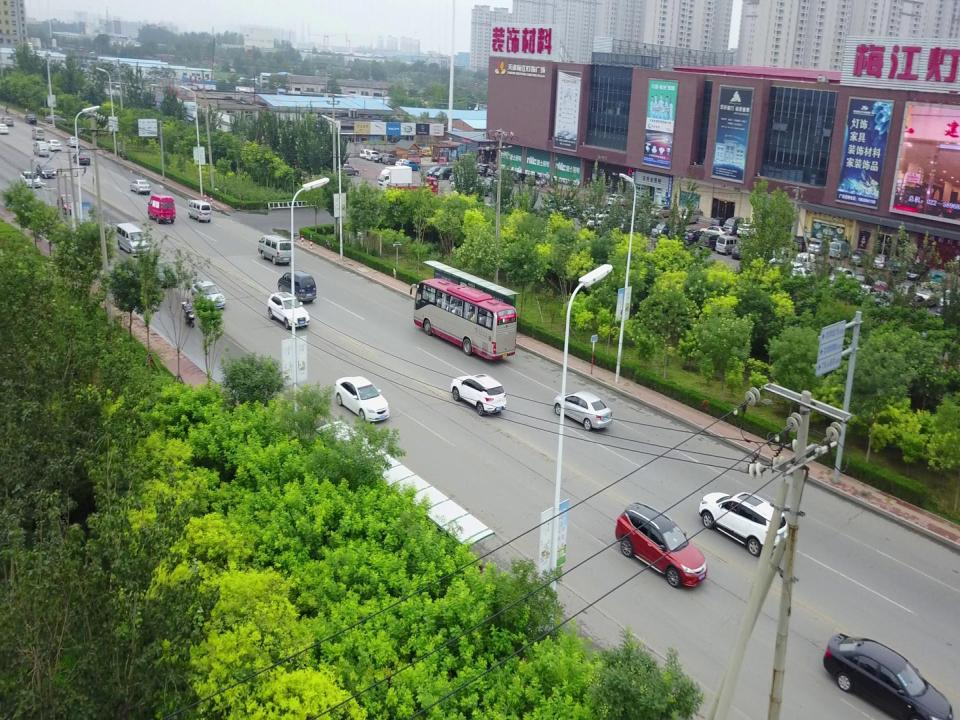car: (822, 632, 953, 720), (409, 277, 517, 360), (616, 501, 708, 589), (698, 490, 788, 556), (334, 375, 390, 423), (450, 373, 506, 417), (553, 390, 613, 431), (266, 292, 310, 329), (277, 269, 317, 303), (191, 280, 227, 310), (257, 234, 292, 264), (149, 258, 175, 287), (188, 200, 212, 222), (829, 266, 855, 285), (715, 236, 739, 255), (698, 232, 721, 250), (469, 181, 494, 197), (683, 229, 705, 247), (57, 193, 75, 215), (700, 225, 730, 238), (791, 266, 815, 282), (20, 170, 41, 188), (791, 234, 813, 251), (849, 249, 869, 267), (650, 204, 674, 219), (731, 242, 753, 258), (651, 221, 673, 237), (808, 239, 828, 256), (679, 208, 699, 225), (736, 223, 760, 237), (129, 179, 151, 194), (872, 252, 890, 270), (36, 163, 56, 179), (336, 163, 359, 175), (668, 226, 686, 241), (434, 167, 453, 181), (606, 194, 626, 207), (425, 165, 444, 178), (710, 217, 728, 230), (73, 152, 90, 165), (401, 160, 421, 171), (45, 114, 67, 124), (478, 164, 496, 176), (46, 139, 62, 151), (512, 173, 529, 184), (524, 174, 542, 184), (373, 153, 391, 163), (66, 136, 80, 148), (395, 158, 411, 168), (488, 165, 502, 176), (359, 150, 374, 158), (1, 116, 13, 126), (0, 123, 9, 134)
truck: (386, 176, 438, 199), (377, 165, 413, 192)
van: (116, 223, 149, 257), (147, 194, 175, 224), (792, 252, 816, 271), (723, 216, 745, 235), (829, 240, 849, 259), (810, 261, 834, 276), (33, 140, 50, 157), (382, 153, 399, 164), (366, 150, 382, 161), (31, 127, 44, 140), (24, 114, 36, 124)
